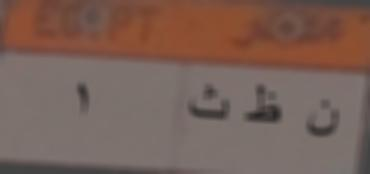1: (71, 78, 95, 121)
Thaa: (241, 78, 283, 134)
noon: (305, 91, 340, 147)
thaa: (184, 80, 230, 128)
